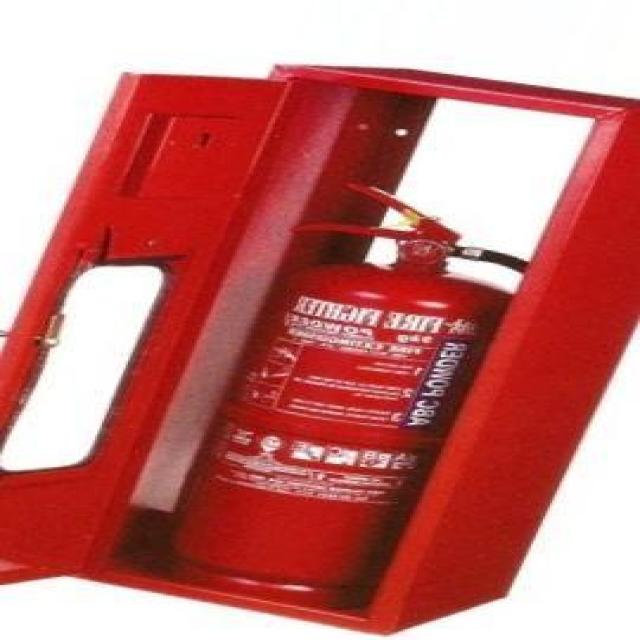fire_extinguisher: (136, 171, 570, 626)
